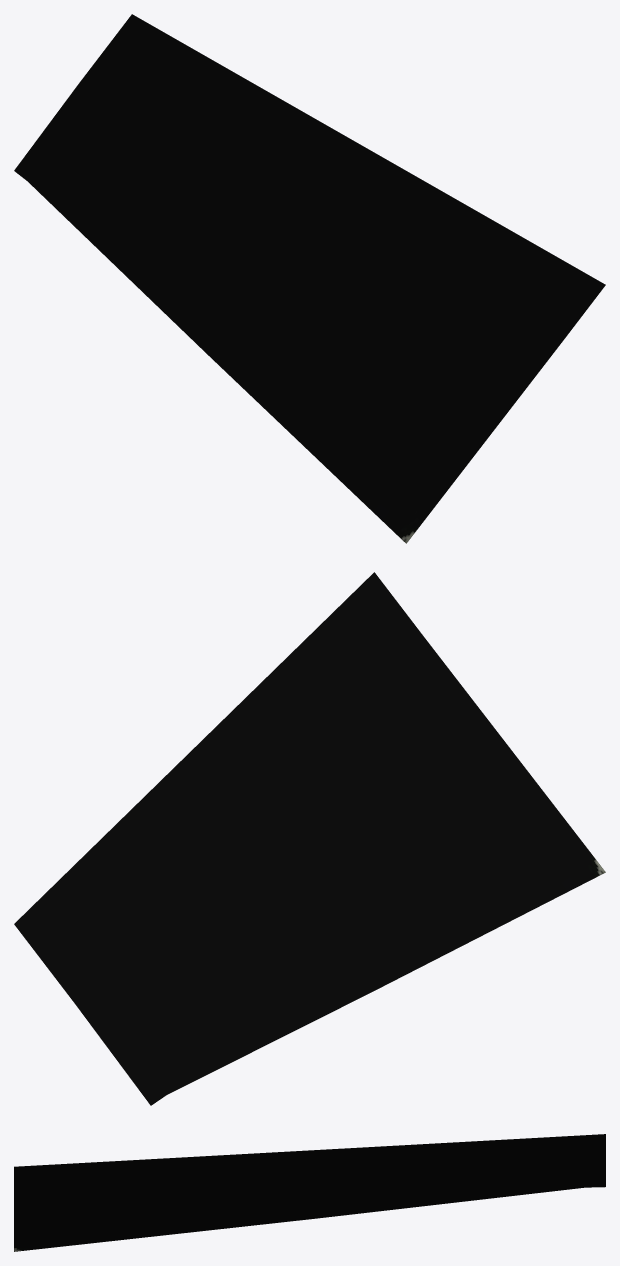
The picture shows the model from 3 angles, top to bottom: view 1: azimuth 30°, elevation 25°; view 2: azimuth 150°, elevation 25°; view 3: azimuth 270°, elevation 25°; orthographic projection. The views are drawn at different scales.
Size of the model in its own units: 3.47 by 3.55 by 11.8.
1 material, 1 textured.
